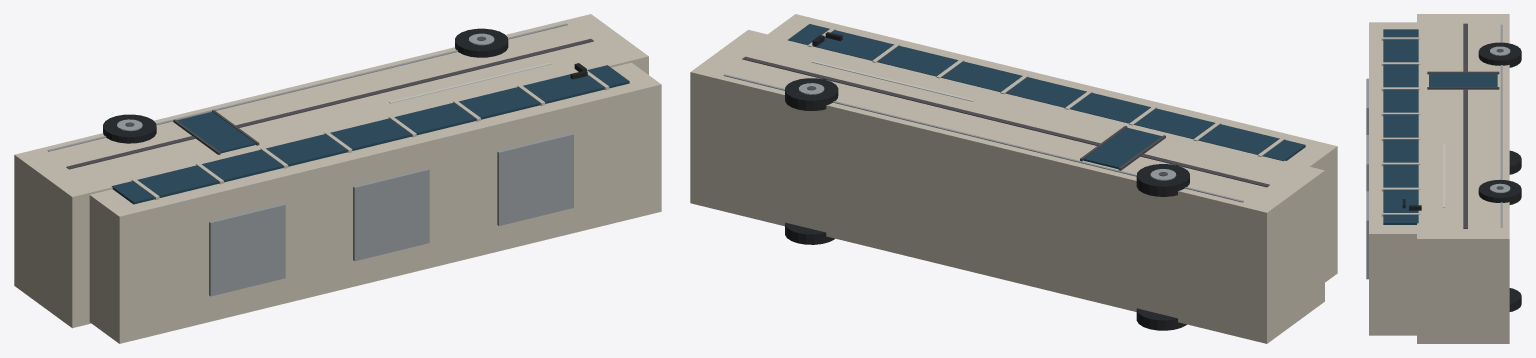
The model's file is RM_Bus_23.glb.
3 renders of one model, left to right at view 1: azimuth 30°, elevation 25°; view 2: azimuth 150°, elevation 25°; view 3: azimuth 270°, elevation 25°, orthographic. The views are drawn at different scales.
Visible parts, largest first — view 1: part_001, part_000, part_002, part_037, part_038, part_039, part_013, part_040, part_014, part_024, part_030; view 2: part_000, part_002, part_001, part_013, part_040, part_030, part_024, part_014, part_021, part_027; view 3: part_000, part_001, part_002, part_040, part_013, part_024, part_030, part_014, part_039, part_021, part_027, part_042 (+6 smaller).
Part boxes in pixels (bbox=[...]): part_001: bbox=[89, 62, 661, 343]; part_000: bbox=[14, 14, 648, 328]; part_002: bbox=[111, 65, 629, 204]; part_037: bbox=[209, 203, 285, 296]; part_038: bbox=[353, 168, 429, 261]; part_039: bbox=[497, 133, 573, 225]; part_013: bbox=[66, 38, 593, 169]; part_040: bbox=[177, 112, 255, 153]; part_014: bbox=[47, 23, 567, 151]; part_024: bbox=[103, 114, 156, 143]; part_030: bbox=[455, 28, 508, 57]; part_000: bbox=[690, 29, 1324, 343]; part_002: bbox=[788, 24, 1305, 161]; part_001: bbox=[768, 14, 1337, 282]; part_013: bbox=[742, 56, 1269, 187]; part_040: bbox=[1083, 127, 1161, 168]; part_030: bbox=[785, 78, 838, 110]; part_024: bbox=[1136, 164, 1189, 196]; part_014: bbox=[723, 74, 1243, 202]; part_021: bbox=[1136, 308, 1186, 330]; part_027: bbox=[785, 222, 834, 244]; part_000: bbox=[1417, 14, 1509, 343]; part_001: bbox=[1369, 22, 1416, 335]; part_002: bbox=[1383, 29, 1418, 224]; part_040: bbox=[1429, 73, 1497, 86]; part_013: bbox=[1463, 23, 1467, 228]; part_024: bbox=[1478, 42, 1521, 67]; part_030: bbox=[1478, 179, 1521, 204]; part_014: bbox=[1500, 24, 1502, 227]; part_039: bbox=[1366, 191, 1368, 279]; part_021: bbox=[1509, 150, 1521, 174]; part_027: bbox=[1509, 288, 1521, 311]; part_042: bbox=[1427, 87, 1499, 89].
Size of the model in its own units: 11.64 by 2.85 by 3.4.
